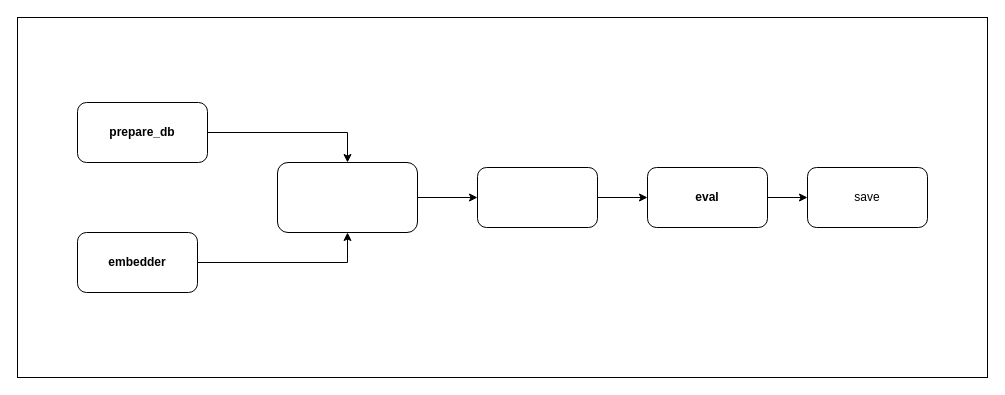
The diagram is 1005 pixels wide and 395 high, and some of its shapes have lost their labels. The shapes that lost their labels are listed below. From the top down, each one's box as (x1, y1, x2, y2) in pixels, then its label:
(276, 162, 418, 232): synthesize
(476, 166, 598, 228): classifier
